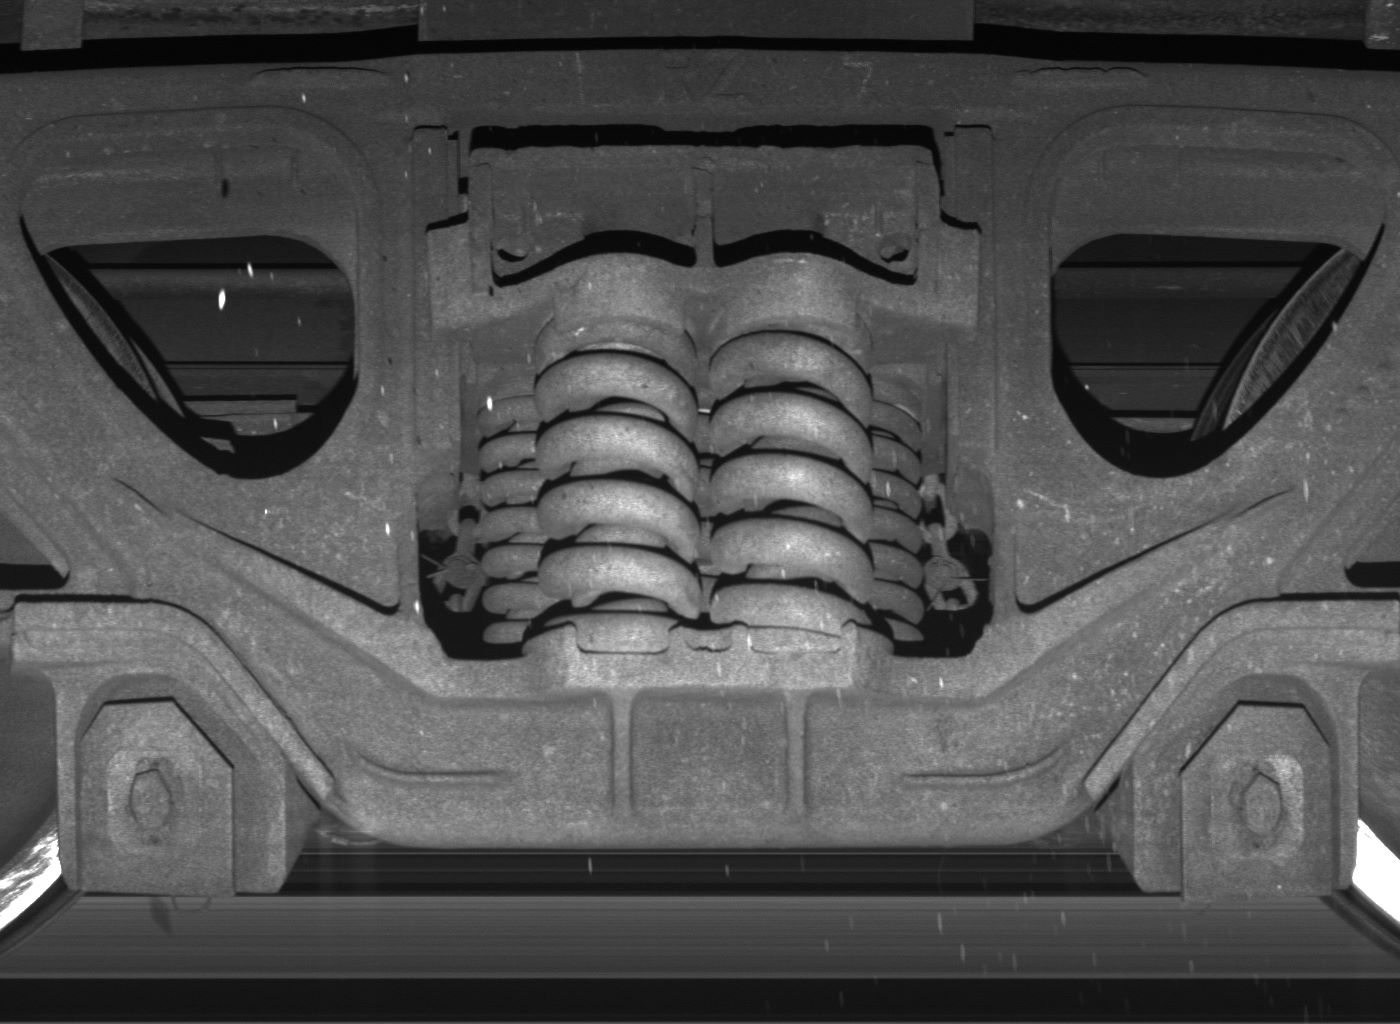normal: (57, 663, 288, 898), (1161, 669, 1358, 903)
